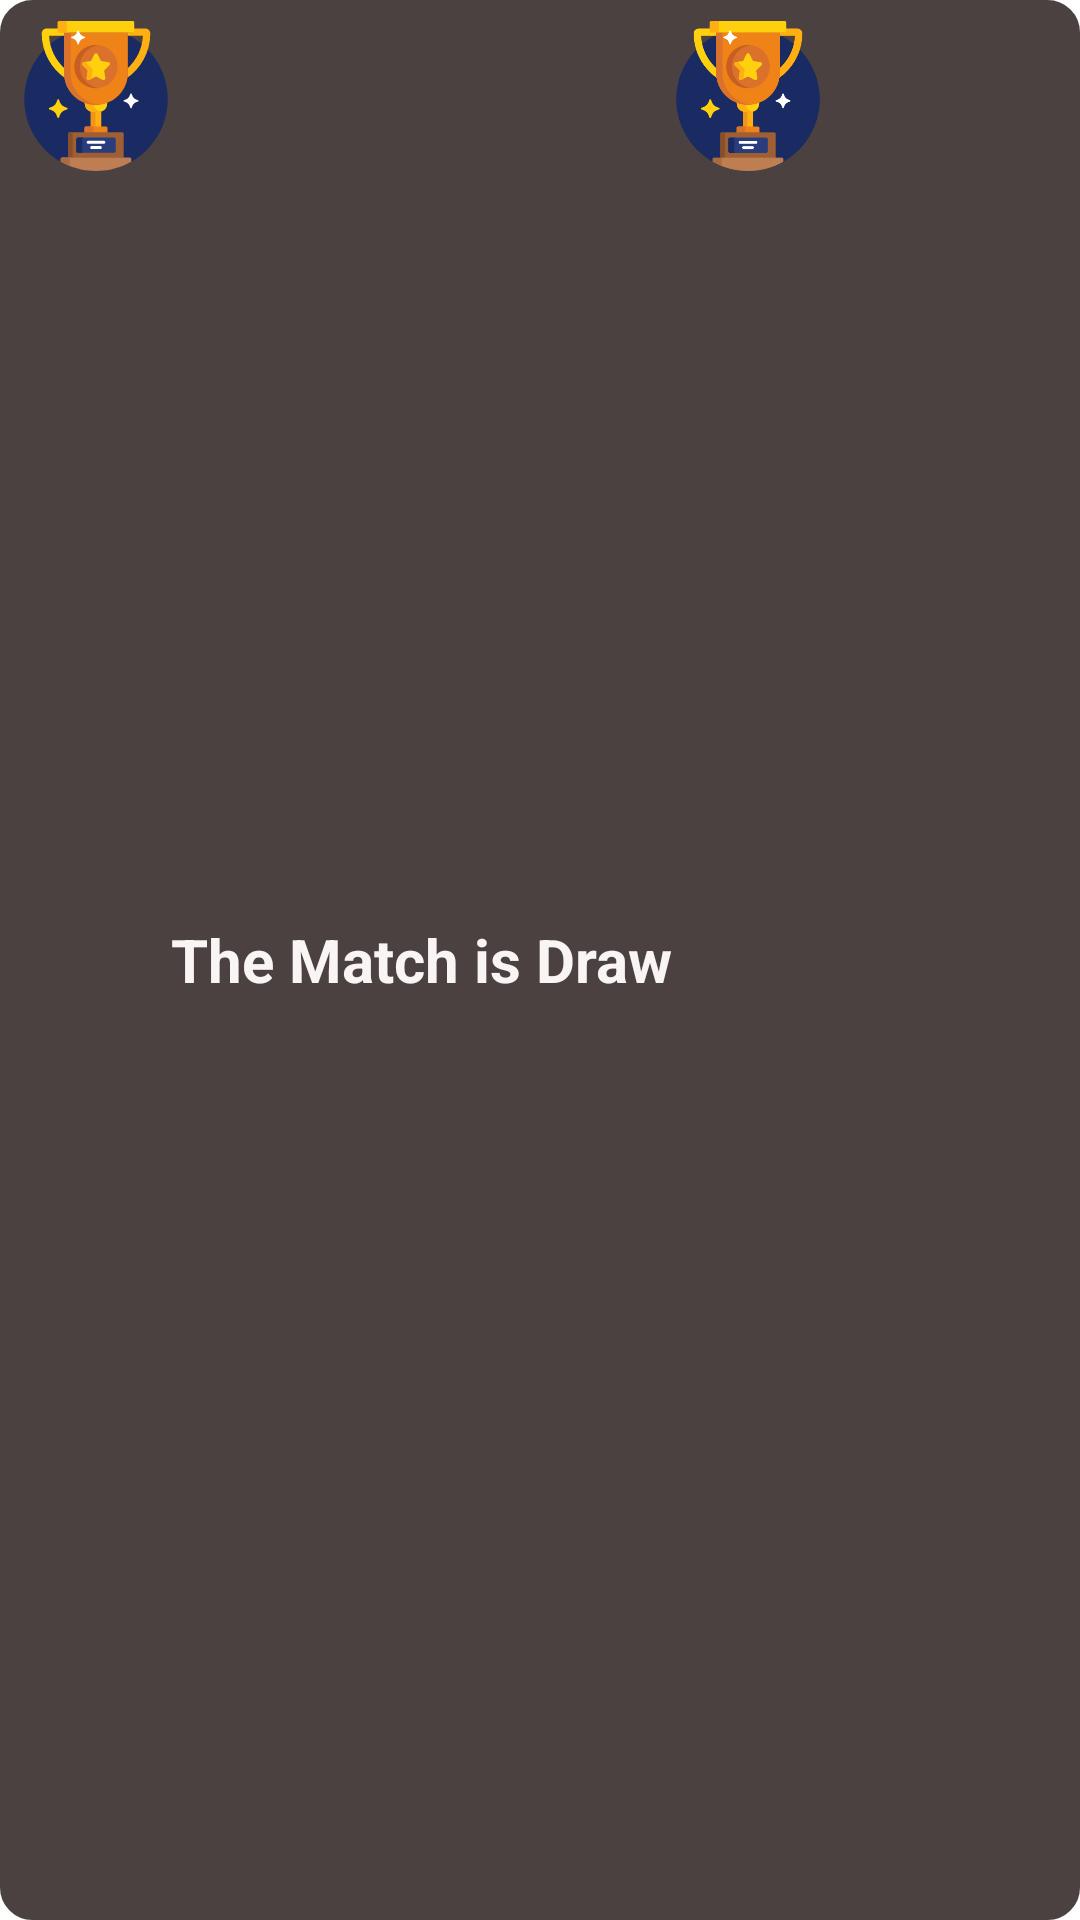

Where to tap for icons on this 1080*1920 app screen, as [x,y]:
trophy: [96,96], [748,96]
